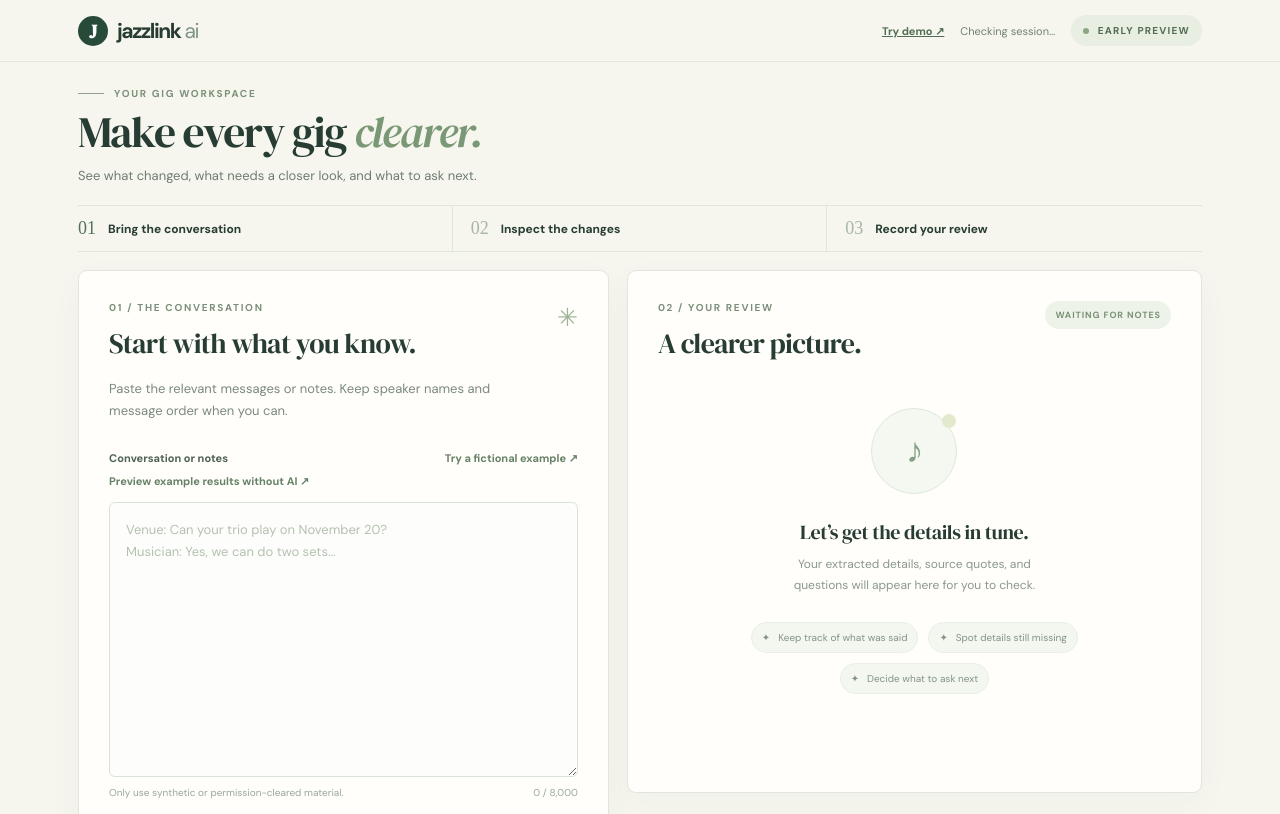
Test: workspace interaction › distinguishes missing from unselected values, copies questions and discloses sources
Click the button "Preview example results without AI ↗" at (209, 481), box left=109, top=470, right=309, bottom=492
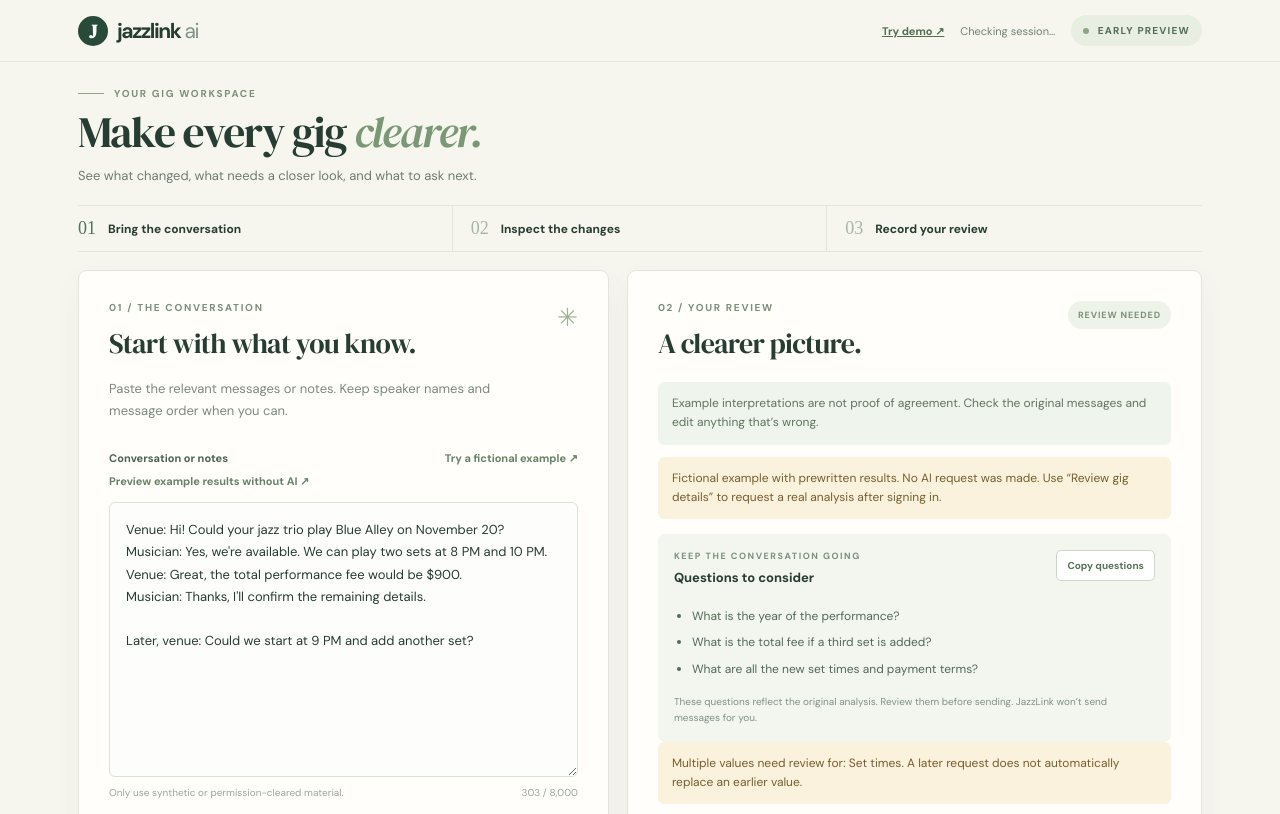
Expected: the text "These questions reflect the original analysis." is shown, left=674, top=695, right=1013, bottom=708
Click the button "Copy questions" at (1106, 565), box left=1056, top=550, right=1155, bottom=581
(page scrolled)
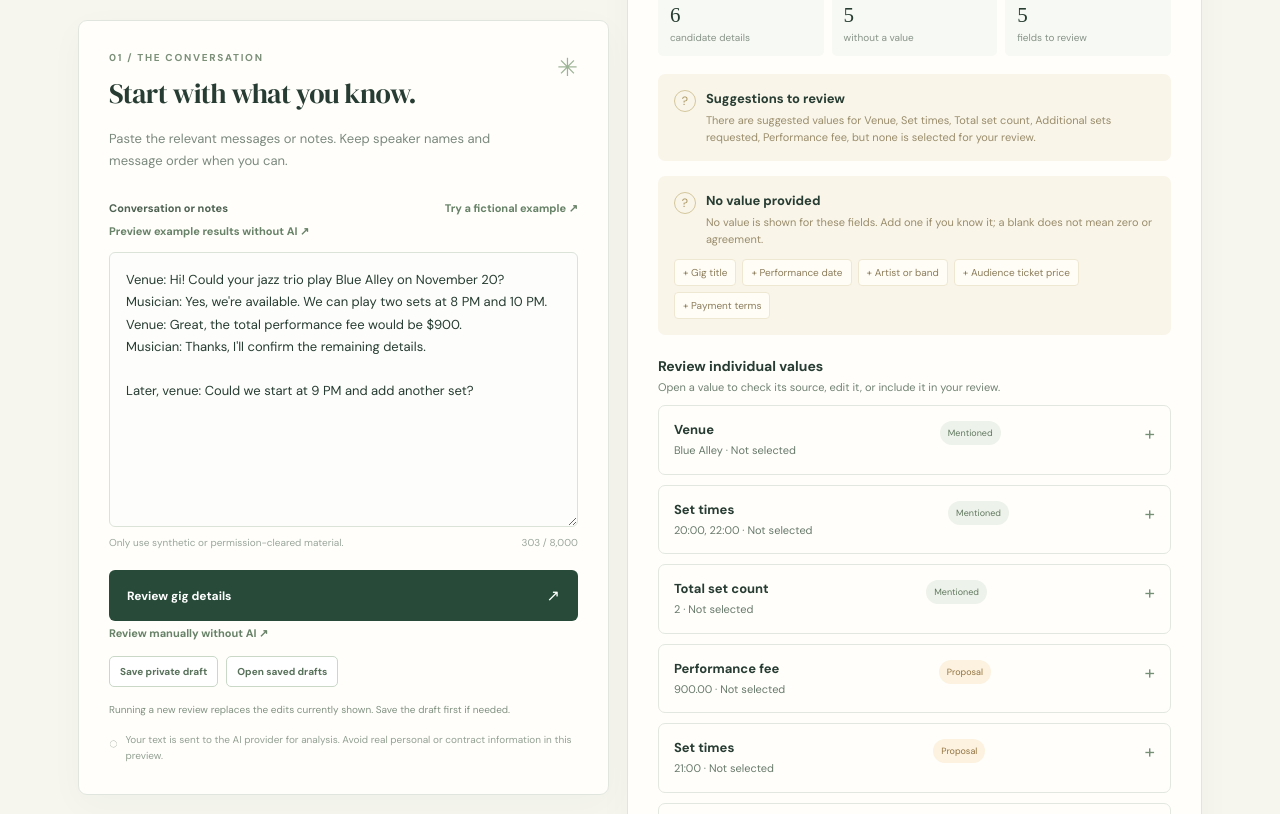
Click the text "Blue Alley · Not selected" at (735, 451), box left=674, top=442, right=796, bottom=459
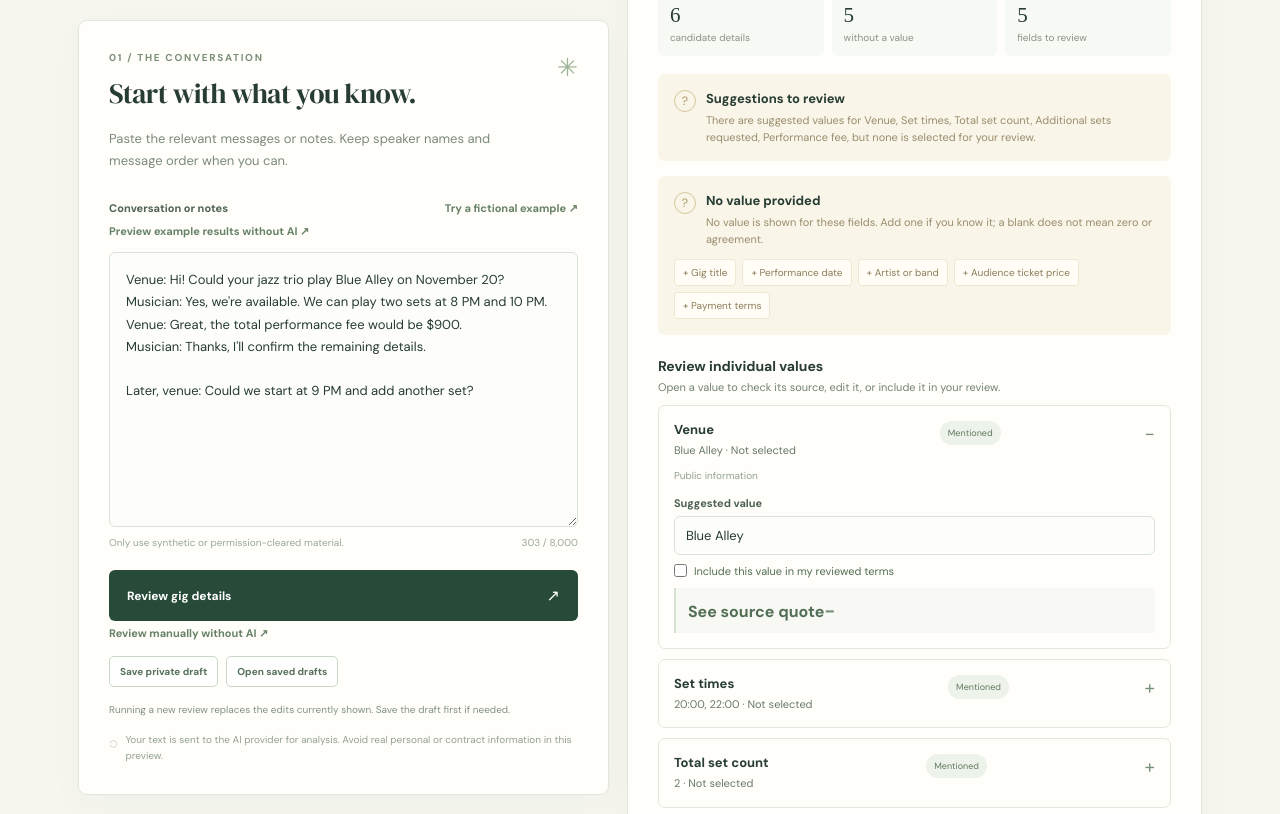
Replace the text in the field labelled "Suggested value" with "A different venue" at (914, 536), box left=674, top=516, right=1155, bottom=555
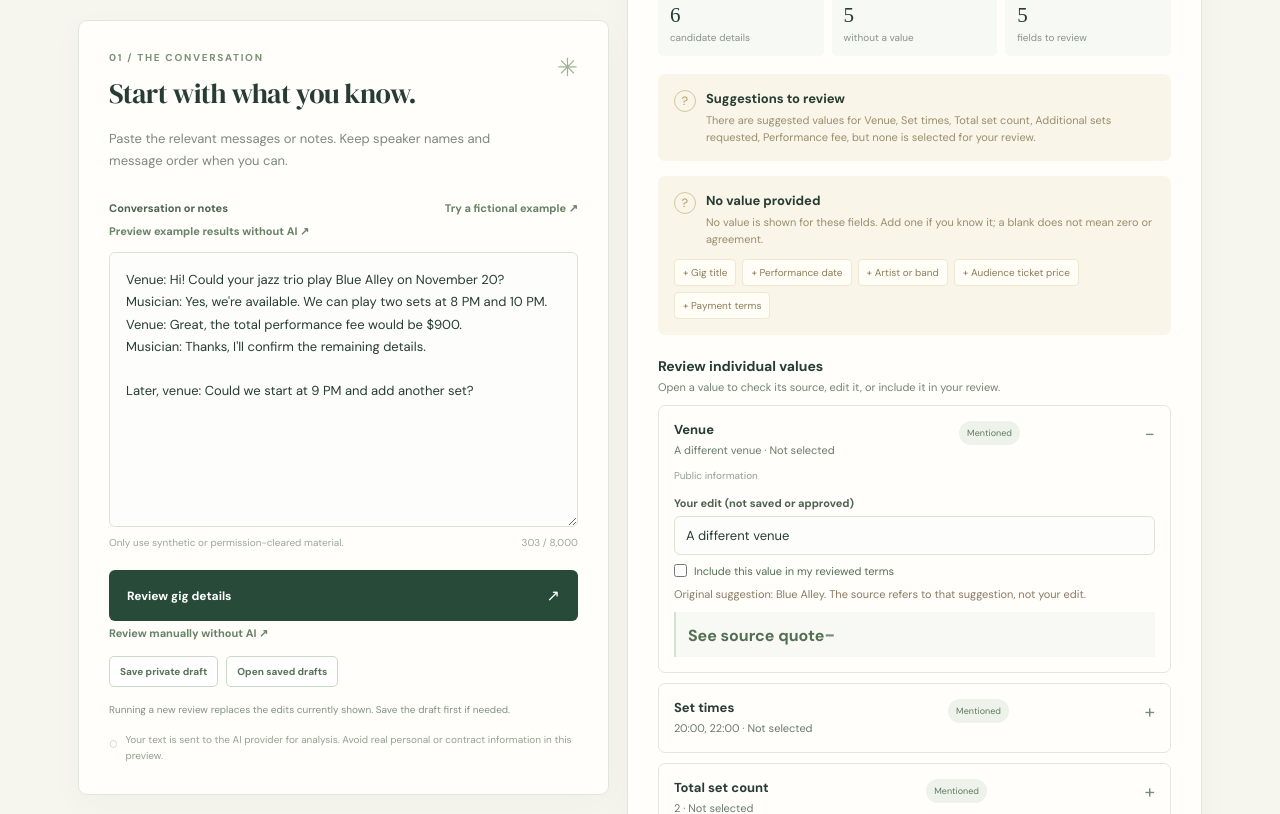
Click the checkbox labelled "Include this value in my reviewed terms" at (680, 571), box left=674, top=564, right=687, bottom=578
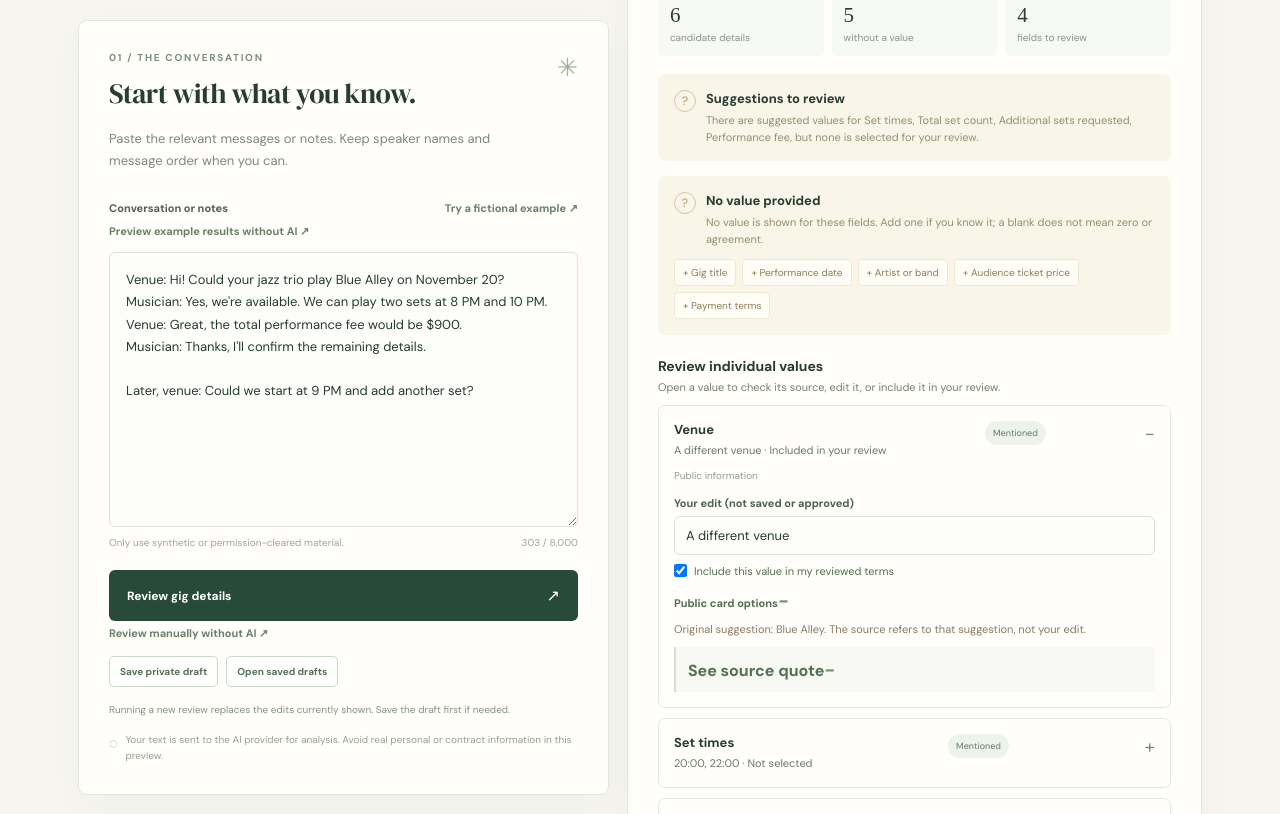
Click the heading "See source quote" at (756, 671), box left=688, top=660, right=824, bottom=682
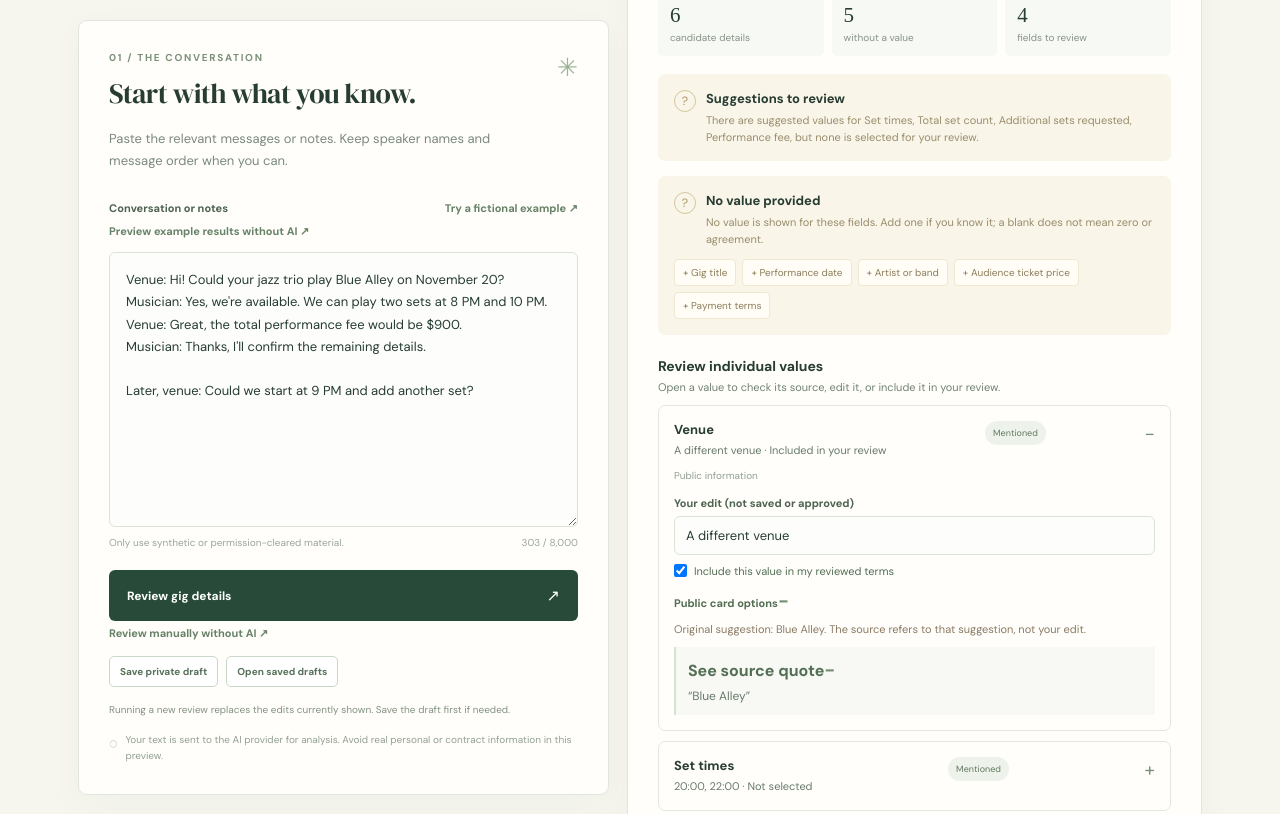
Expected: the text "“Blue Alley”" is shown, left=688, top=688, right=750, bottom=704
